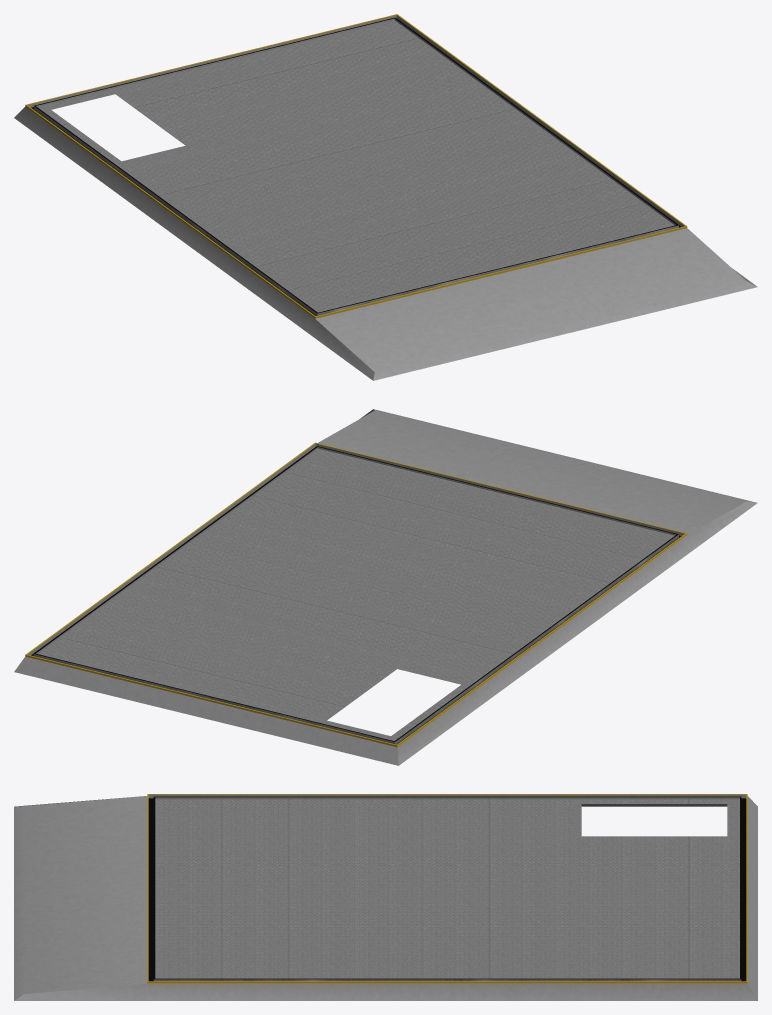
File: ground_elev.fbx
The picture shows the model from 3 angles, top to bottom: view 1: azimuth 30°, elevation 25°; view 2: azimuth 150°, elevation 25°; view 3: azimuth 270°, elevation 25°; orthographic projection. The views are drawn at different scales.
Visible parts, largest first — view 1: bake; view 2: bake; view 3: bake.
Part boxes in pixels (<box>): bake: <box>14,14,757,380</box>; bake: <box>14,409,757,765</box>; bake: <box>14,794,757,1000</box>.
Bounding box in the file's own units: 1200 × 45.24 × 1941.
1 material, 1 textured.
